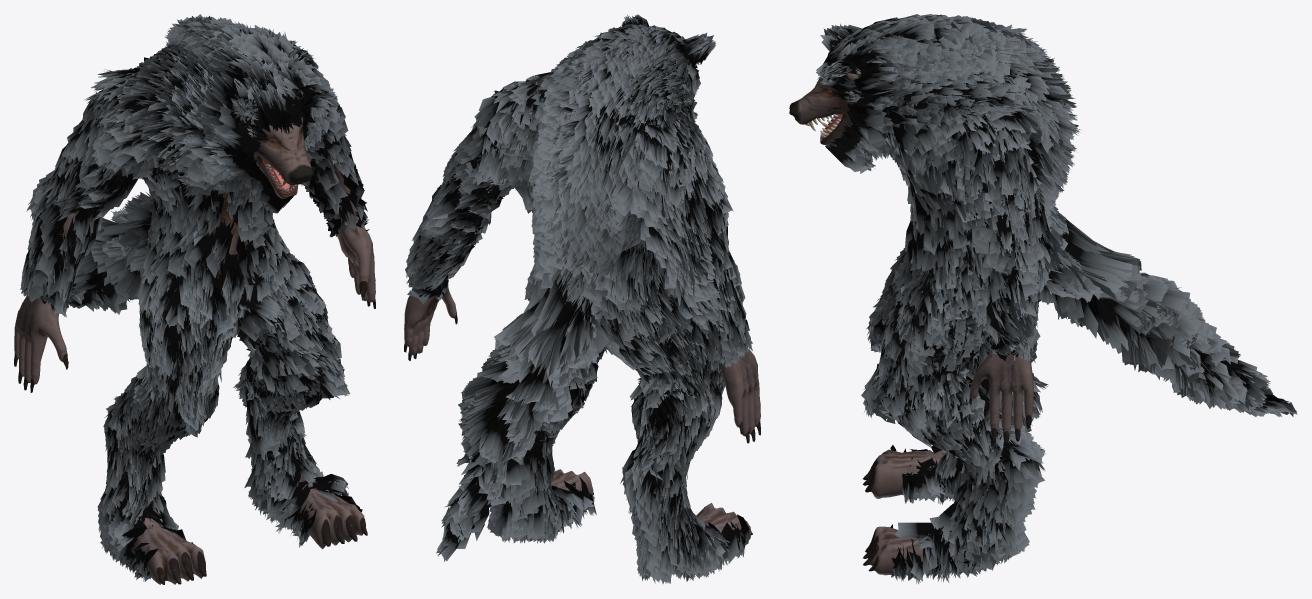
The model's file is Wolf.fbx.
3 views of the same model, side by side, from view 1: azimuth 30°, elevation 25°; view 2: azimuth 150°, elevation 25°; view 3: azimuth 270°, elevation 25° (orthographic).
Parts seen in each view (by area): view 1: defaultMaterial.008; view 2: defaultMaterial.008; view 3: defaultMaterial.008.
Part boxes in pixels (left/top/right/bottom): defaultMaterial.008: left=14, top=14, right=375, bottom=584; defaultMaterial.008: left=404, top=14, right=760, bottom=583; defaultMaterial.008: left=789, top=14, right=1297, bottom=584.
Bounding box in the file's own units: 290 × 414 × 370.
Materials: 4 (4 with a texture image).
